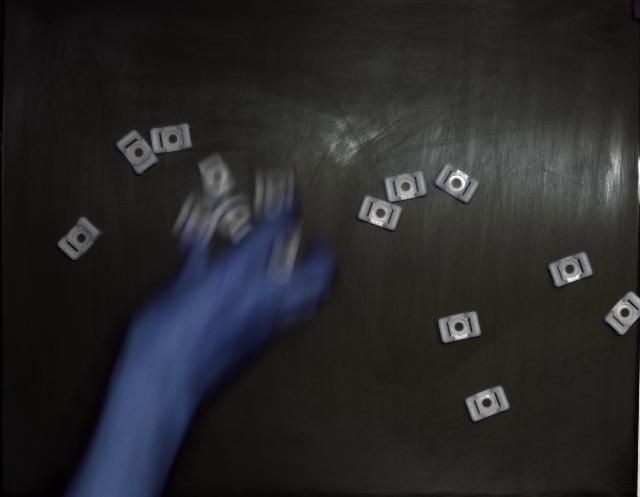first_side: (116, 130, 158, 175), (58, 218, 102, 260), (435, 164, 479, 204), (465, 386, 510, 422), (358, 196, 402, 231), (548, 253, 592, 288), (438, 311, 481, 344), (385, 171, 428, 202), (150, 124, 192, 154)
